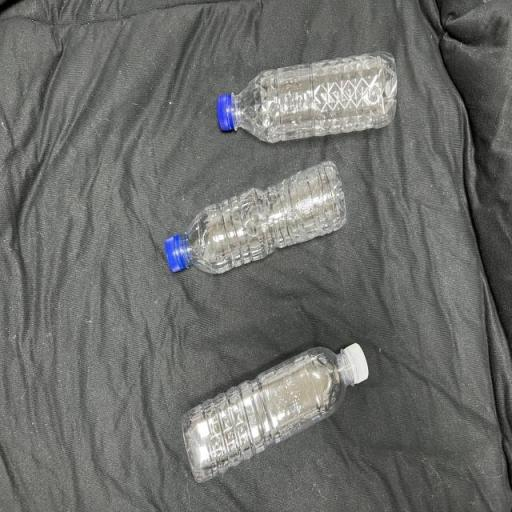plastic: (176, 338, 372, 488), (162, 156, 349, 278), (214, 47, 400, 146)
